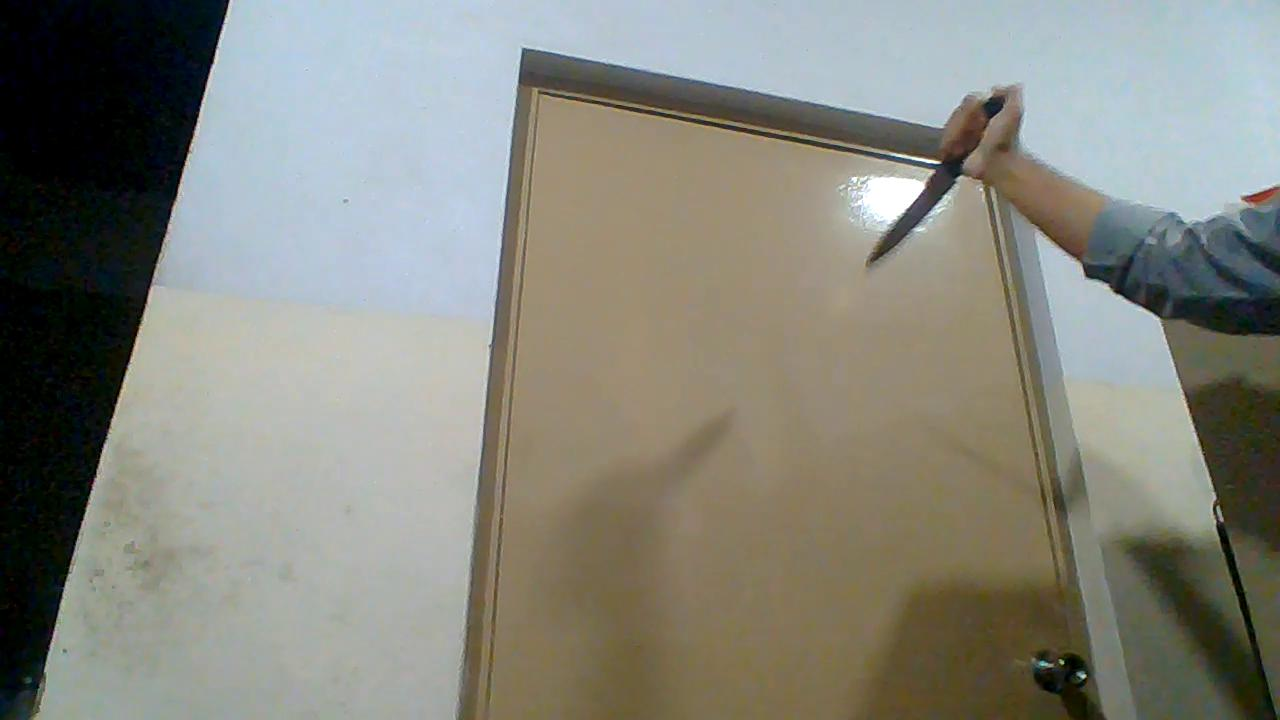weapon: (860, 156, 966, 273)
